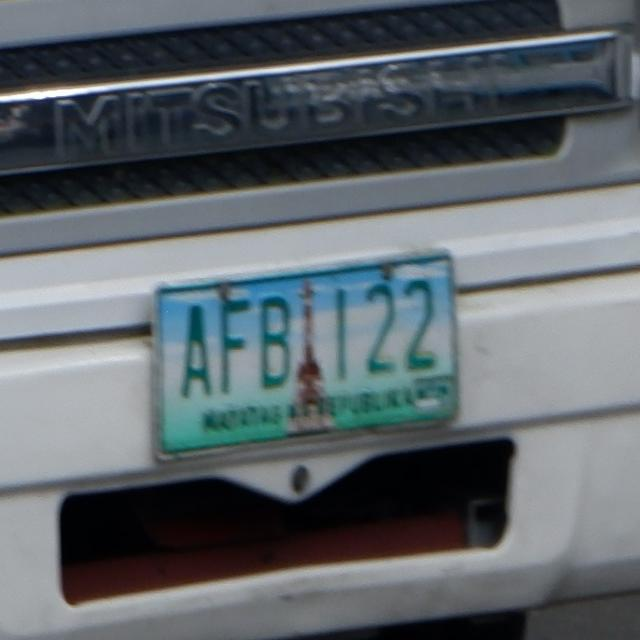LicensePlate: (140, 265, 488, 449)
